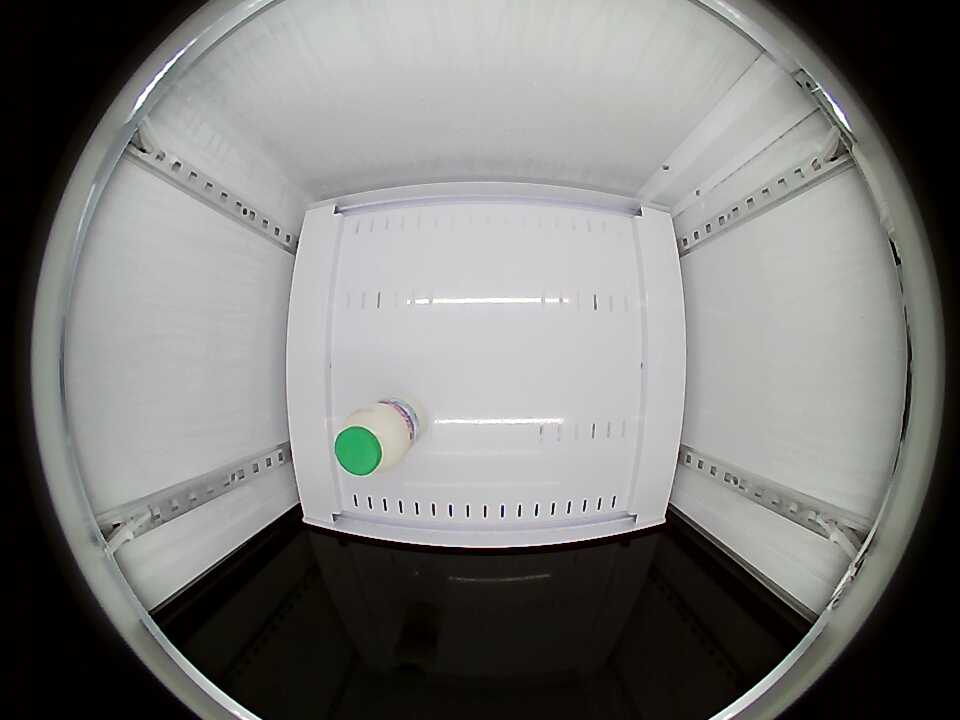liziyuan: (334, 400, 413, 477)
